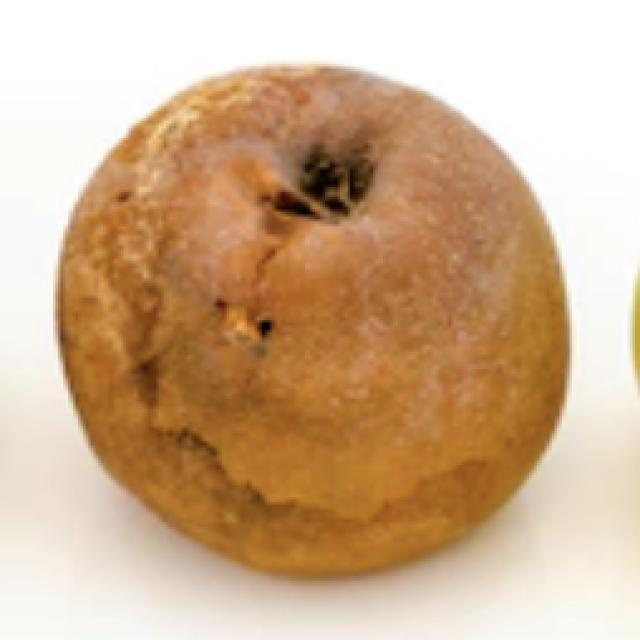Rotten: (51, 51, 572, 582)
